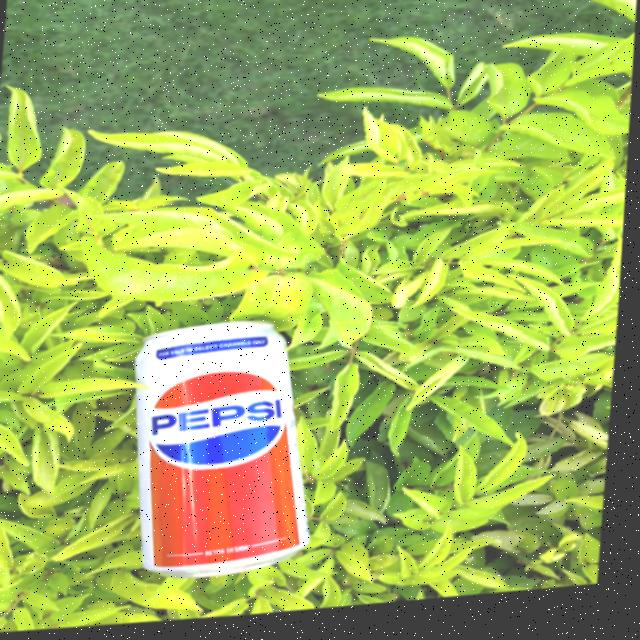Pepsi Retro: (116, 317, 332, 590)
